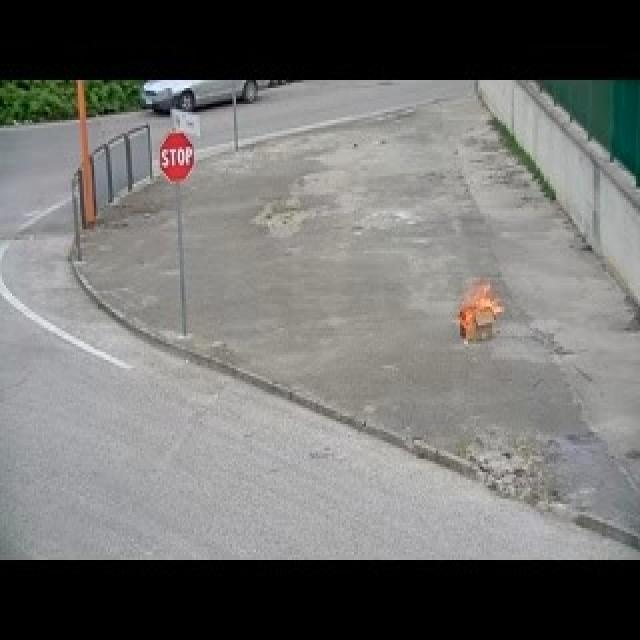fire: (458, 278, 498, 344)
